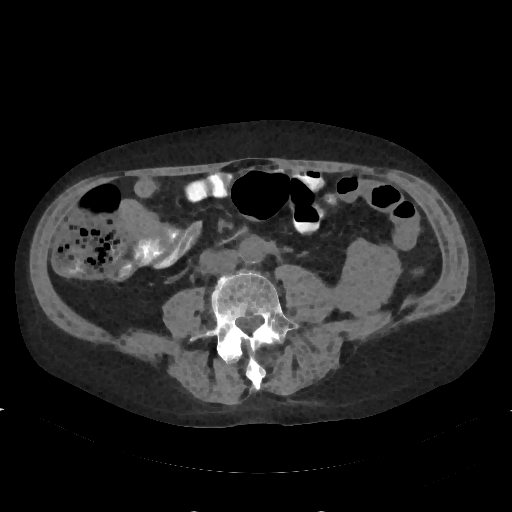Lesion: (332, 235, 401, 320)
